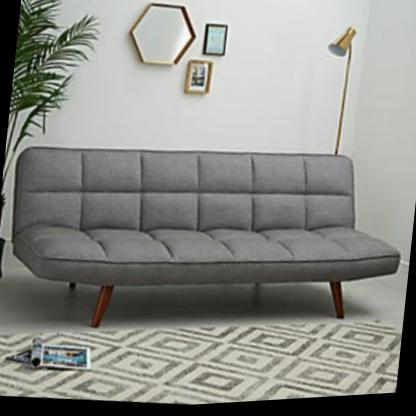Sofa: (0, 120, 413, 364)
